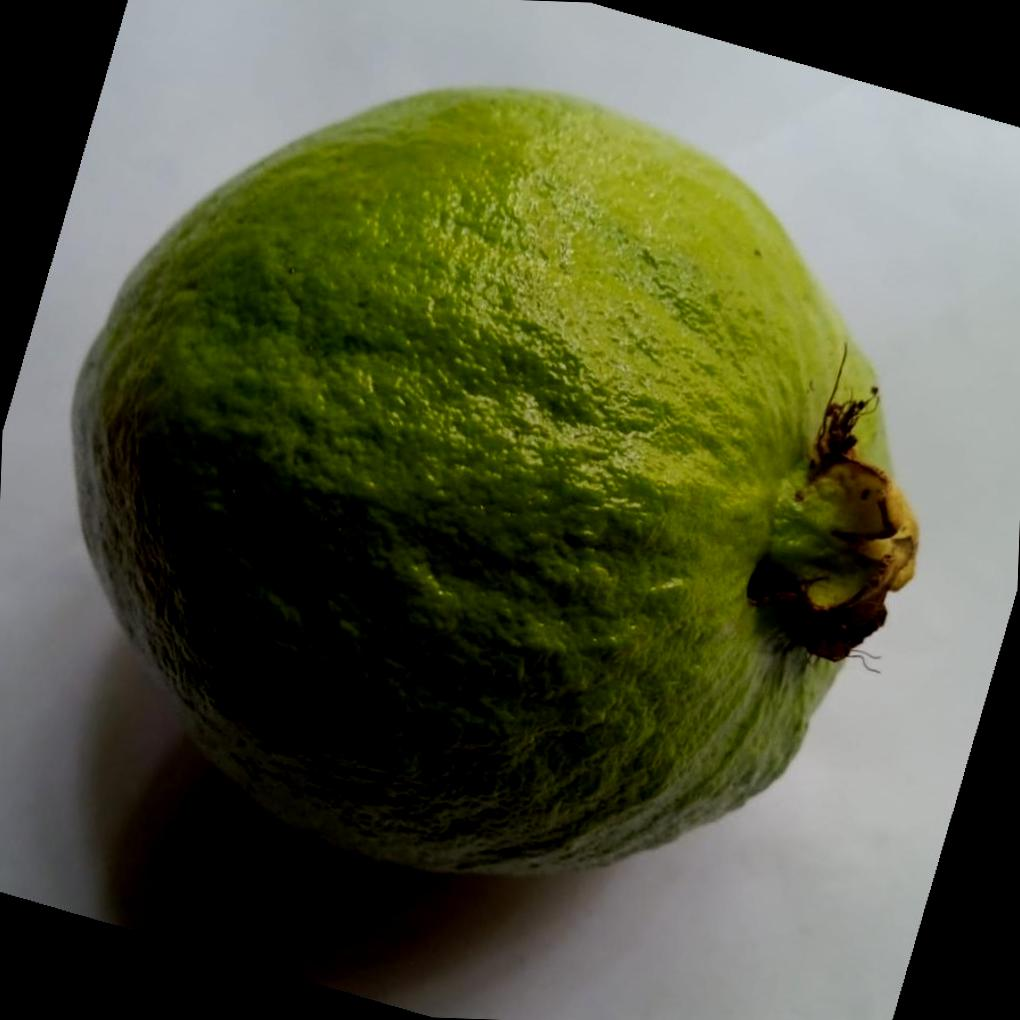FreshGuava: (69, 87, 921, 883)
